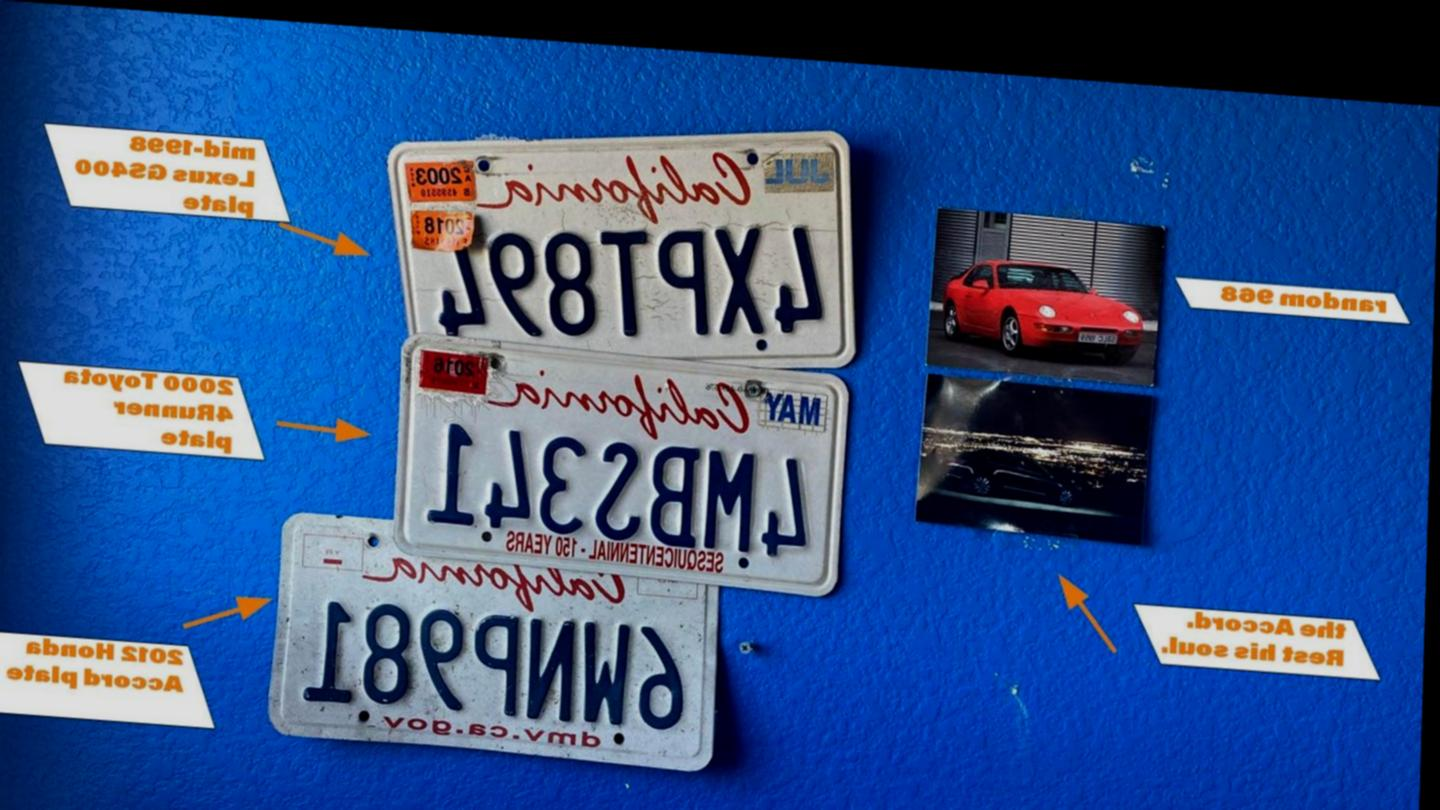License_Plate: (381, 87, 846, 390), (396, 334, 853, 592), (264, 542, 718, 763)
